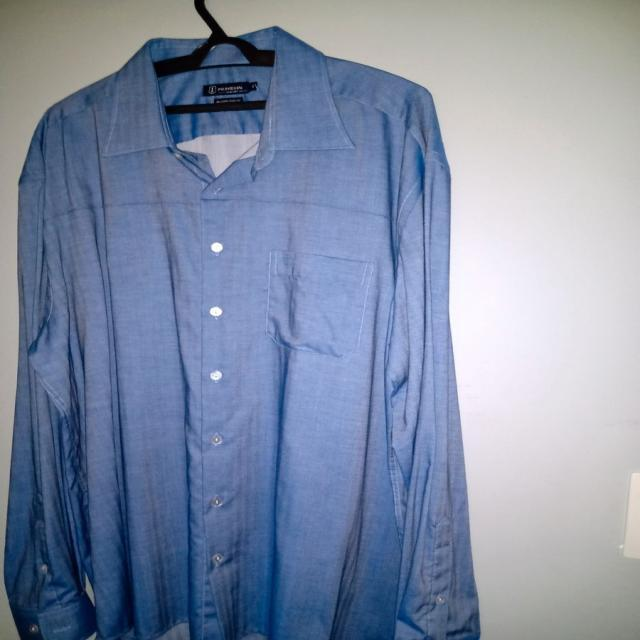long sleeve shirt: (0, 24, 485, 637)
